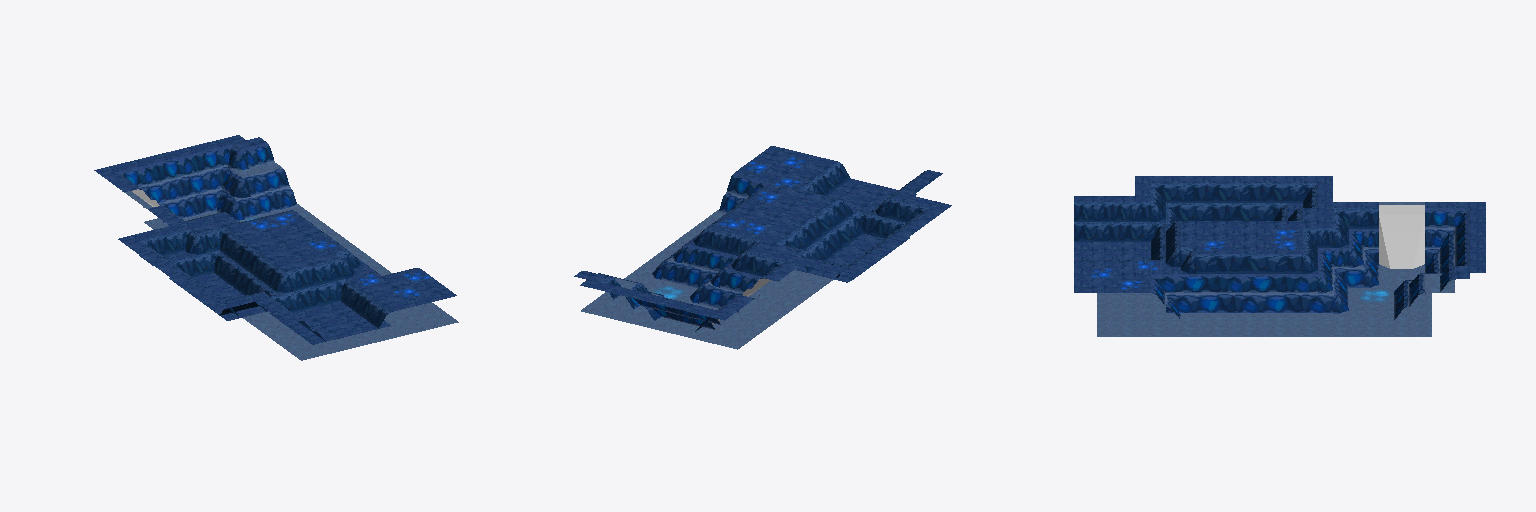
3 renders of one model, left to right at view 1: azimuth 30°, elevation 25°; view 2: azimuth 150°, elevation 25°; view 3: azimuth 270°, elevation 25°, orthographic.
Parts seen in each view (by area): view 1: polygon0, polygon2, polygon1, polygon4, polygon3, polygon7; view 2: polygon0, polygon2, polygon1, polygon4, polygon3, polygon7; view 3: polygon2, polygon1, polygon0, polygon4, polygon3, polygon5, polygon7.
Boxes of the visible parts, <box> form: polygon0: <box>94,135,456,344</box>; polygon2: <box>138,144,390,341</box>; polygon1: <box>124,162,458,360</box>; polygon4: <box>141,166,297,223</box>; polygon3: <box>115,143,417,277</box>; polygon7: <box>246,212,433,300</box>; polygon0: <box>574,146,951,320</box>; polygon2: <box>601,162,930,299</box>; polygon1: <box>581,210,833,349</box>; polygon4: <box>598,193,746,331</box>; polygon3: <box>584,173,771,320</box>; polygon7: <box>714,155,812,235</box>; polygon2: <box>1074,183,1424,286</box>; polygon1: <box>1097,202,1454,336</box>; polygon0: <box>1074,176,1485,292</box>; polygon4: <box>1166,229,1454,319</box>; polygon3: <box>1151,208,1469,306</box>; polygon5: <box>1379,205,1424,268</box>; polygon7: <box>1088,228,1298,290</box>.
Bounding box in the file's own units: 4.25 × 0.9688 × 6.75.
Materials: 8 (7 with a texture image).